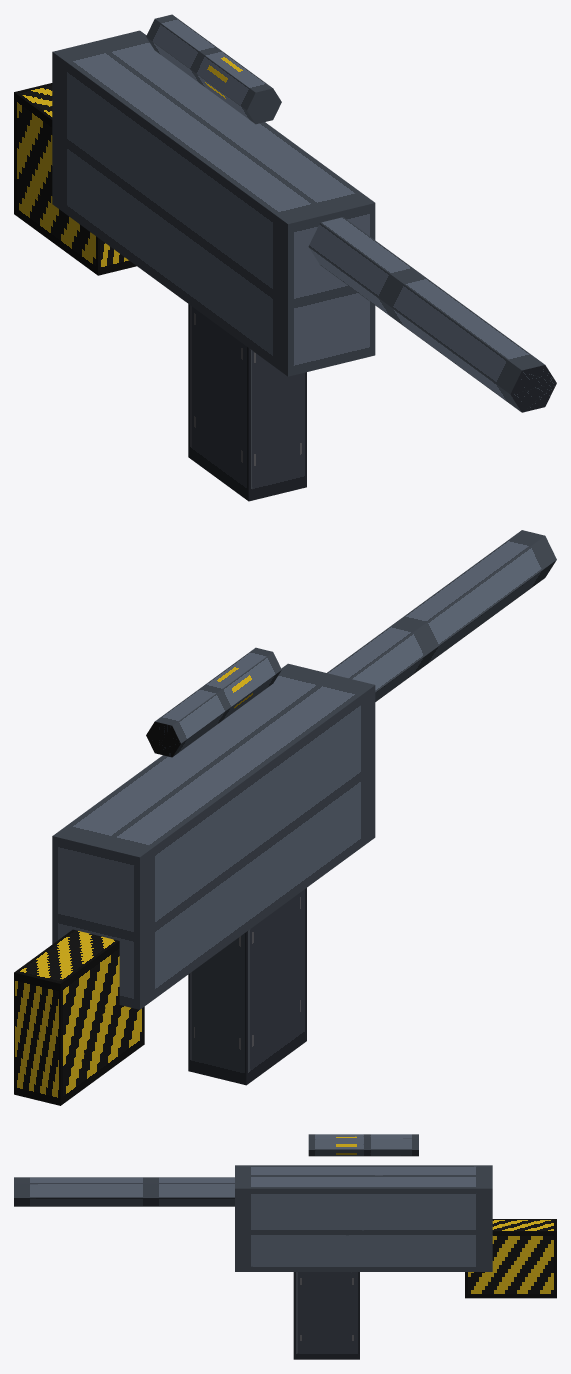
File: weapon_energy_rifle.obj
3 renders of one model, top to bottom at view 1: azimuth 30°, elevation 25°; view 2: azimuth 150°, elevation 25°; view 3: azimuth 270°, elevation 25°, orthographic. The views are drawn at different scales.
Parts seen in each view (by area): view 1: rifle_body, rifle_mag, rifle_barrel, rifle_stock, rifle_scope; view 2: rifle_body, rifle_stock, rifle_mag, rifle_barrel, rifle_scope; view 3: rifle_body, rifle_barrel, rifle_stock, rifle_mag, rifle_scope.
Part boxes in pixels (x1,y1,x2,y2): rifle_body: [52, 30, 375, 376]; rifle_mag: [188, 304, 306, 501]; rifle_barrel: [308, 217, 556, 412]; rifle_stock: [14, 83, 136, 275]; rifle_scope: [146, 14, 281, 124]; rifle_body: [52, 663, 375, 1009]; rifle_stock: [14, 929, 144, 1105]; rifle_mag: [188, 888, 306, 1085]; rifle_barrel: [327, 530, 556, 701]; rifle_scope: [146, 647, 281, 757]; rifle_body: [235, 1165, 492, 1271]; rifle_barrel: [14, 1177, 234, 1206]; rifle_stock: [465, 1219, 556, 1298]; rifle_mag: [293, 1272, 359, 1359]; rifle_scope: [308, 1134, 418, 1156].
Size of the model in its own units: 0.15 by 0.646 by 1.47.
5 materials, 5 textured.
